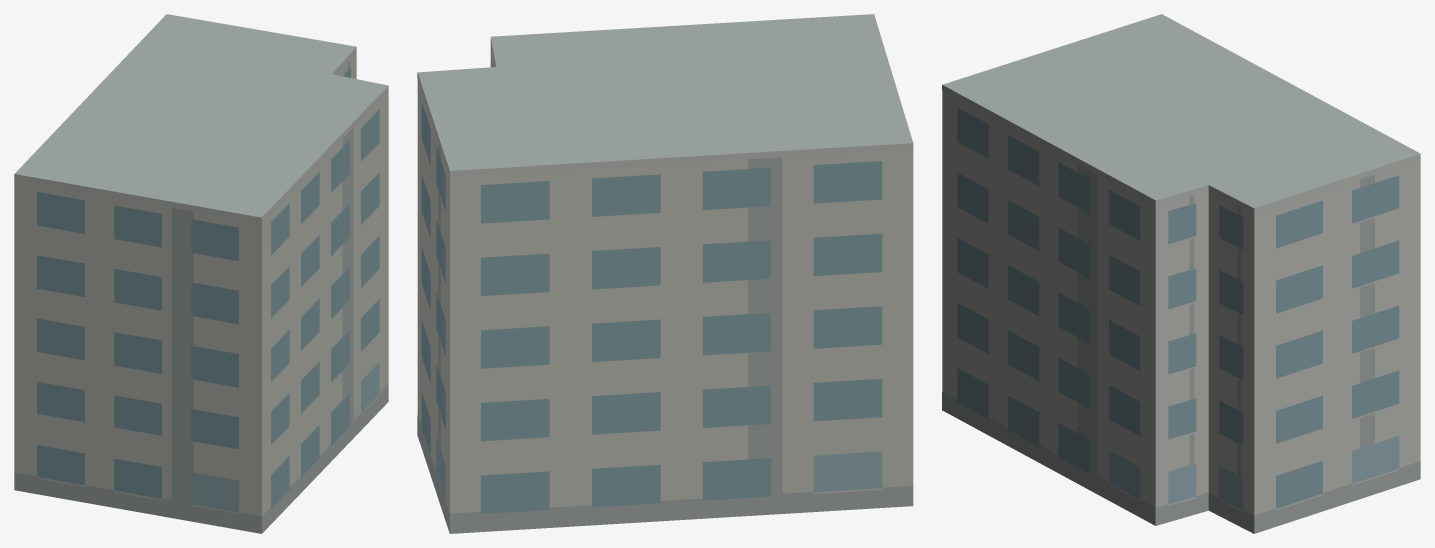
File: survey-upis-32777930.glb
3 views of the same model, side by side, from view 1: azimuth 30°, elevation 25°; view 2: azimuth 150°, elevation 25°; view 3: azimuth 270°, elevation 25° (orthographic). The views are drawn at different scales.
Visible parts, largest first — view 1: survey-upis-32777930.tmp; view 2: survey-upis-32777930.tmp; view 3: survey-upis-32777930.tmp.
Part boxes in pixels (box(x1,y1,x2,y2)): survey-upis-32777930.tmp: box(14, 14, 388, 533); survey-upis-32777930.tmp: box(417, 14, 913, 533); survey-upis-32777930.tmp: box(942, 14, 1420, 533).
Bounding box in the file's own units: 17.73 × 13.84 × 18.44.
